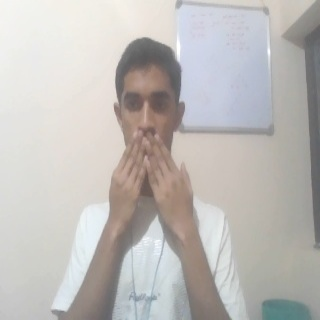Thank You: (104, 134, 206, 245)
